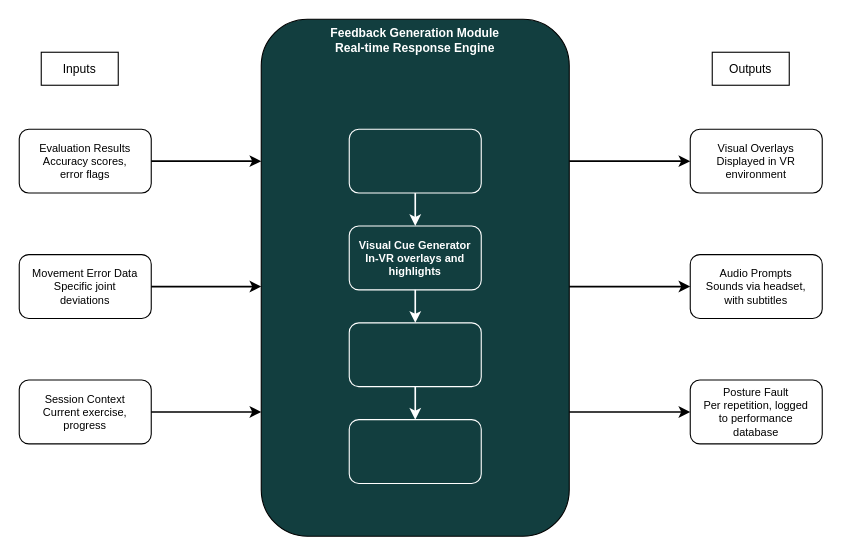
This 842x556 diagram has some shape labels left out. The box of each missing label's shape, as (x1, y1, x2, y2) in pixels:
Audio Prompt Generator Sound responses and subtitles: (348, 322, 481, 387)
Corrective Instruction Engine Movement correction guidance: (348, 419, 481, 483)
Feedback Decision Engine Determines feedback type: (348, 128, 481, 193)
